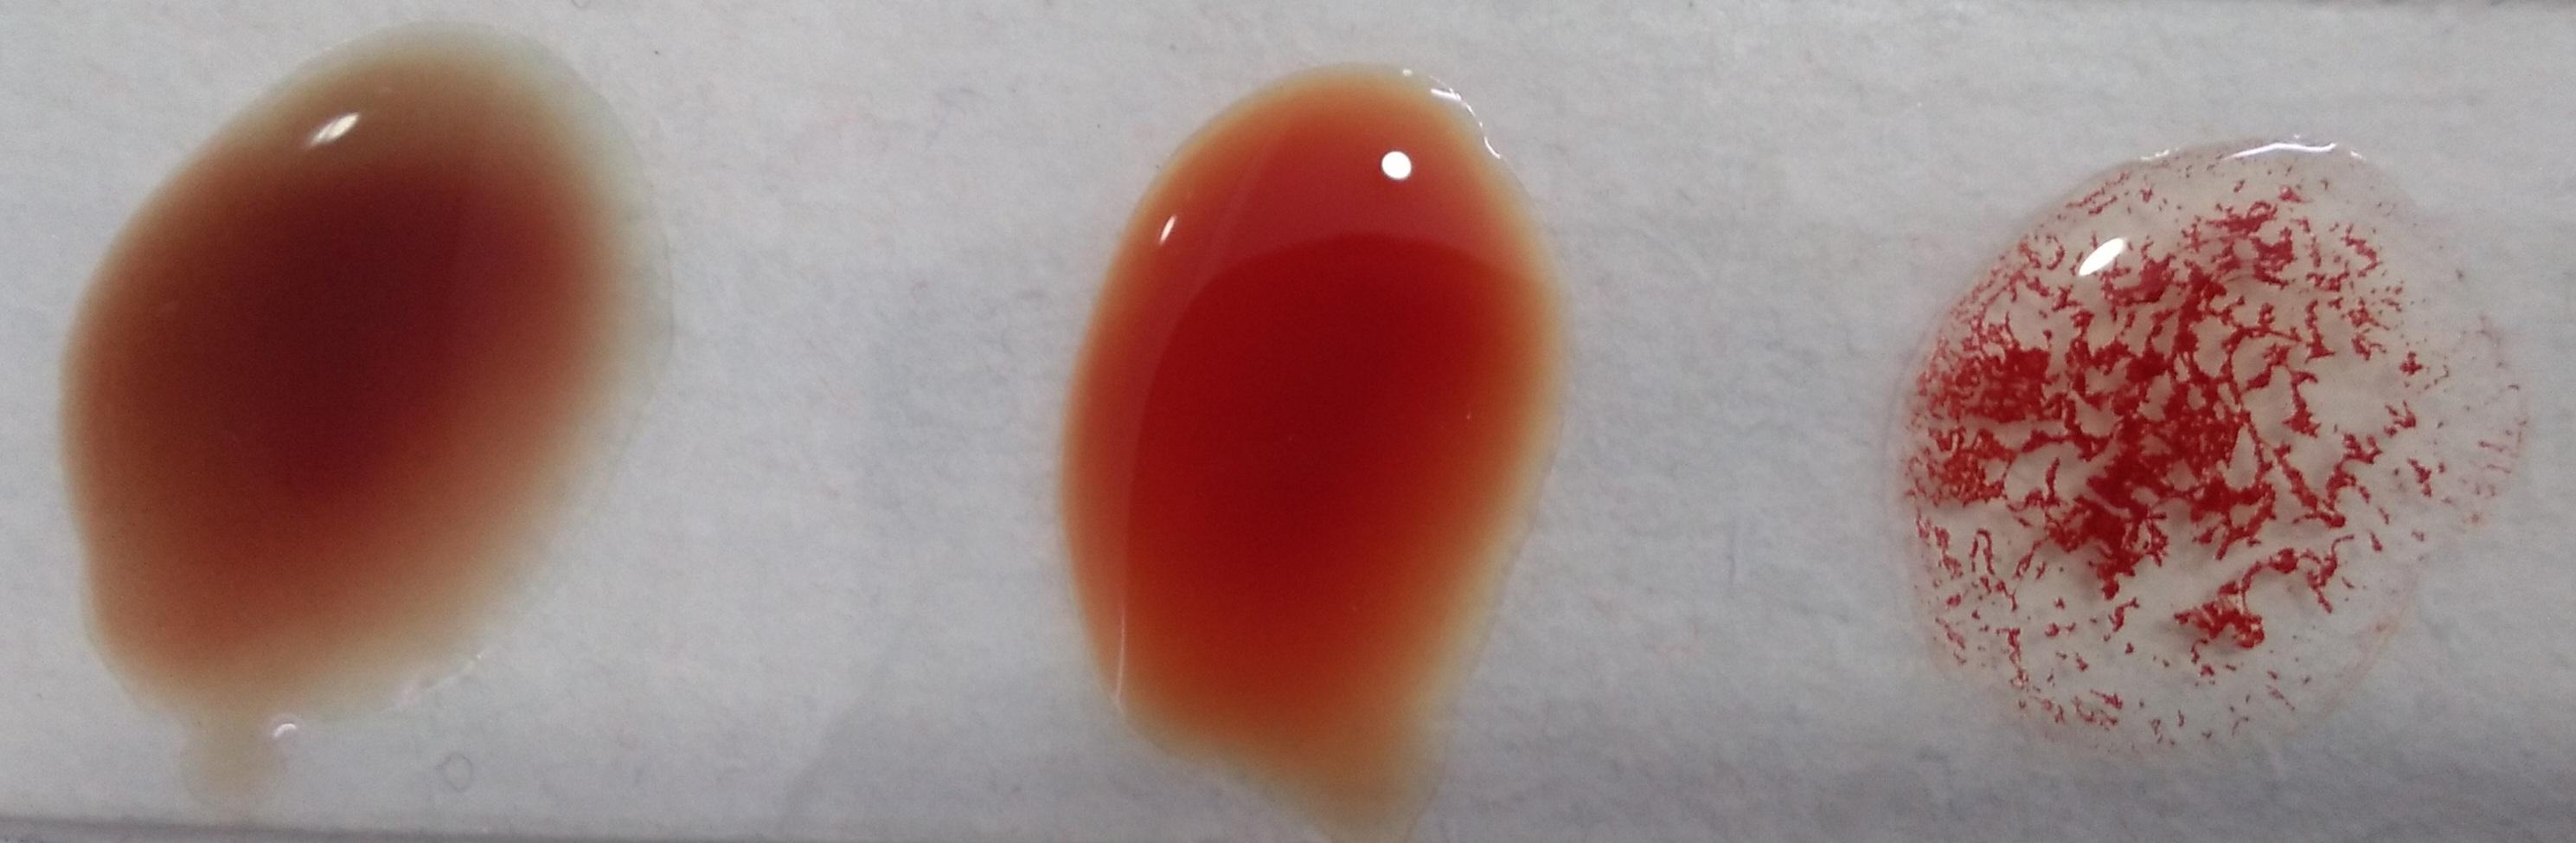D: (1917, 151, 2509, 749)
